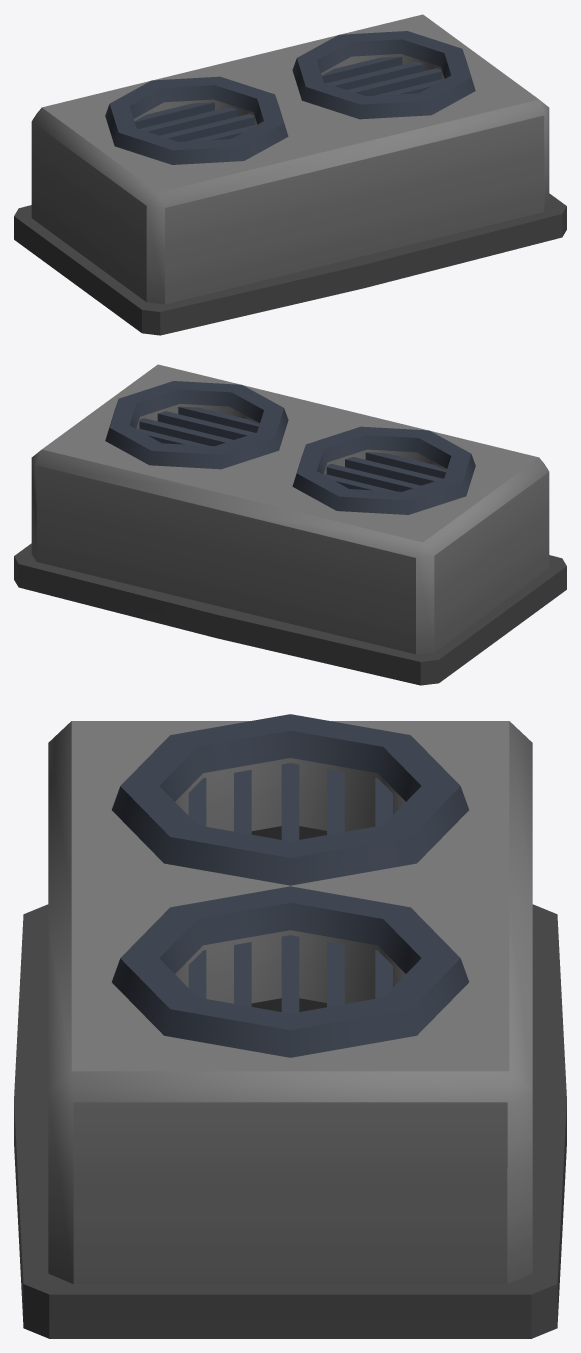
File: Vent_3_A.fbx
The picture shows the model from 3 angles, top to bottom: view 1: azimuth 30°, elevation 25°; view 2: azimuth 150°, elevation 25°; view 3: azimuth 270°, elevation 25°; orthographic projection. The views are drawn at different scales.
Parts seen in each view (by area): view 1: Vent_3_A; view 2: Vent_3_A; view 3: Vent_3_A.
Part boxes in pixels (x1=…): Vent_3_A: x1=14, y1=14, x2=566, y2=335; Vent_3_A: x1=14, y1=364, x2=566, y2=685; Vent_3_A: x1=14, y1=714, x2=566, y2=1338.
Size of the model in its own units: 323 by 105 by 193.
